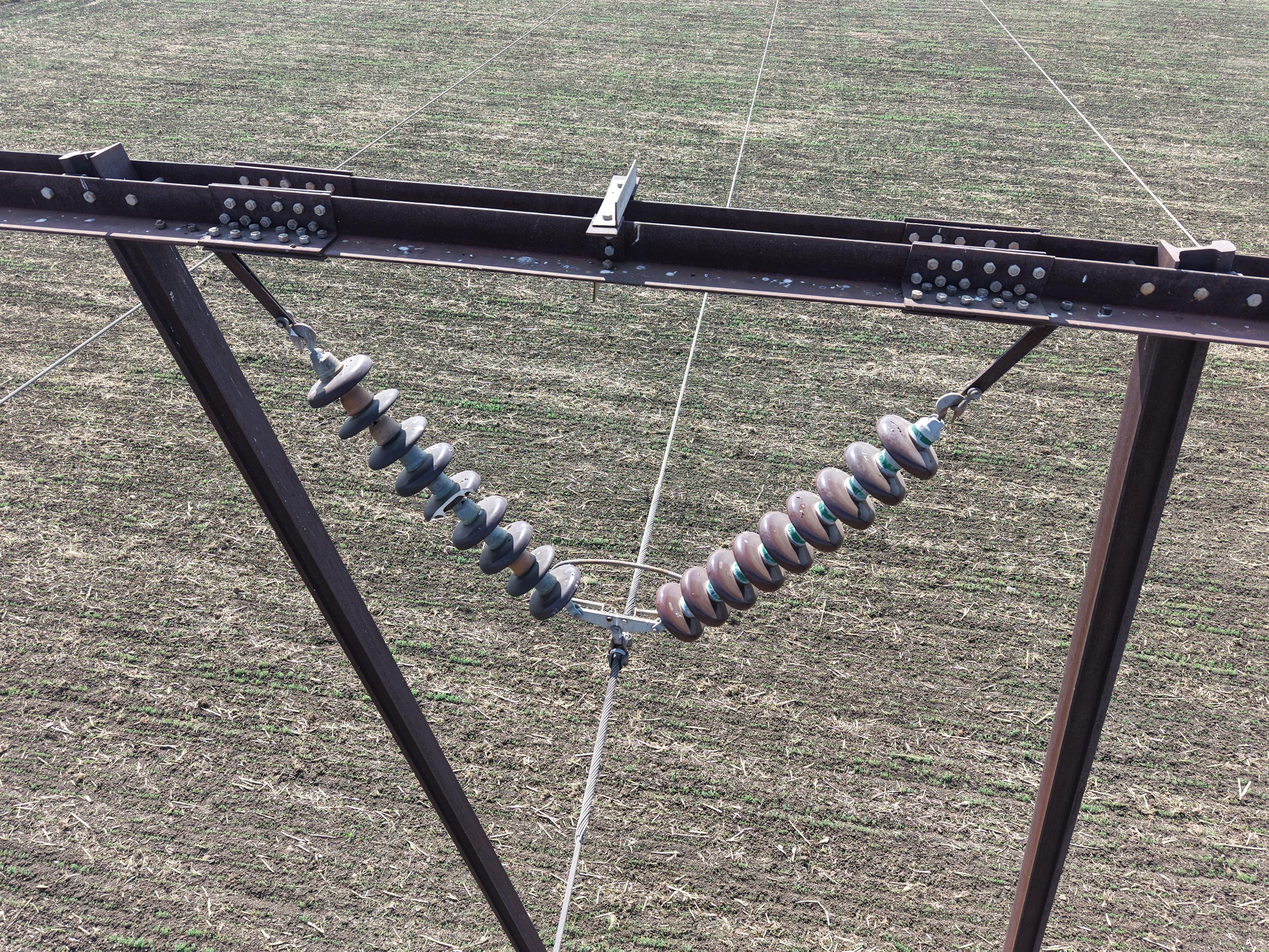broken_insulator: (423, 474, 482, 524)
